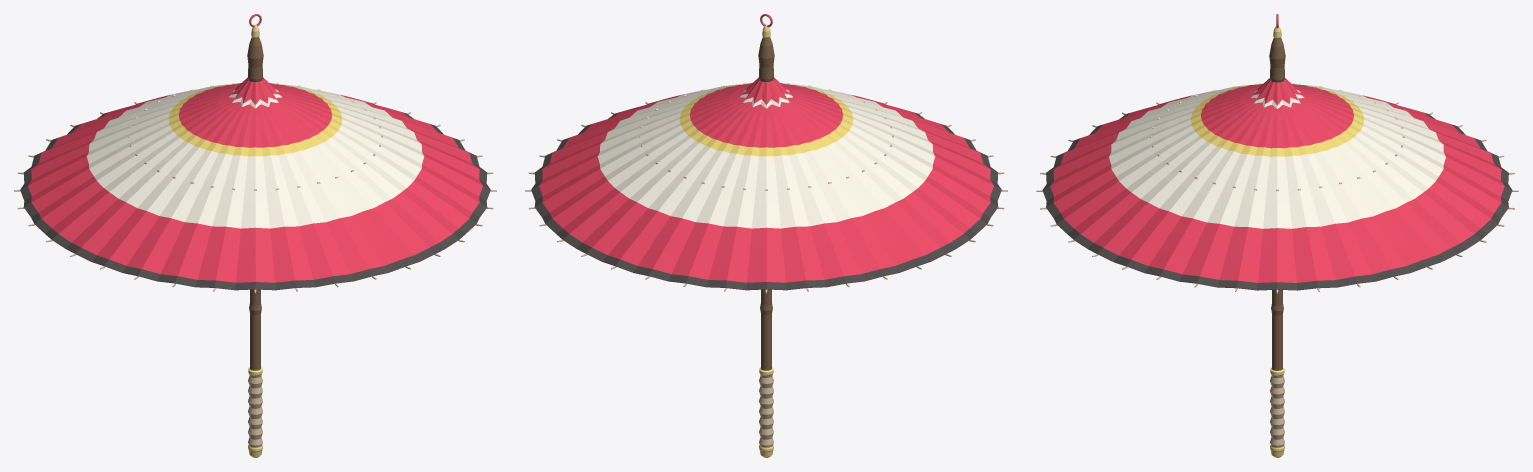
Rendered from craft_wagasa.glb.
The picture shows the model from 3 angles, left to right: view 1: azimuth 30°, elevation 25°; view 2: azimuth 150°, elevation 25°; view 3: azimuth 270°, elevation 25°; orthographic projection.
Visible parts, largest first — view 1: Wagasa_Canopy_OuterCrimson, Wagasa_Canopy_CreamBand, Wagasa_Canopy_InnerCrimson, Wagasa_Canopy_FukurinRim, Wagasa_Canopy_GoldBand, Wagasa_Handle_Rattan, Wagasa_Shaft_Wood, Wagasa_Doubana_Crimson, Wagasa_Finial_Wood; view 2: Wagasa_Canopy_OuterCrimson, Wagasa_Canopy_CreamBand, Wagasa_Canopy_InnerCrimson, Wagasa_Canopy_FukurinRim, Wagasa_Canopy_GoldBand, Wagasa_Handle_Rattan, Wagasa_Shaft_Wood, Wagasa_Doubana_Crimson, Wagasa_Finial_Wood; view 3: Wagasa_Canopy_OuterCrimson, Wagasa_Canopy_CreamBand, Wagasa_Canopy_InnerCrimson, Wagasa_Canopy_FukurinRim, Wagasa_Canopy_GoldBand, Wagasa_Handle_Rattan, Wagasa_Shaft_Wood, Wagasa_Doubana_Crimson, Wagasa_Finial_Wood.
Part boxes in pixels (x1,y1,x2,y2): Wagasa_Canopy_OuterCrimson: (28, 95, 482, 282); Wagasa_Canopy_CreamBand: (86, 83, 424, 228); Wagasa_Canopy_InnerCrimson: (179, 83, 331, 147); Wagasa_Canopy_FukurinRim: (20, 102, 490, 290); Wagasa_Canopy_GoldBand: (168, 83, 342, 156); Wagasa_Handle_Rattan: (248, 373, 262, 447); Wagasa_Shaft_Wood: (249, 289, 261, 370); Wagasa_Doubana_Crimson: (231, 77, 279, 104); Wagasa_Finial_Wood: (247, 37, 263, 81); Wagasa_Canopy_OuterCrimson: (539, 95, 993, 282); Wagasa_Canopy_CreamBand: (597, 83, 935, 228); Wagasa_Canopy_InnerCrimson: (690, 83, 842, 147); Wagasa_Canopy_FukurinRim: (531, 102, 1001, 290); Wagasa_Canopy_GoldBand: (679, 83, 853, 156); Wagasa_Handle_Rattan: (759, 373, 773, 447); Wagasa_Shaft_Wood: (760, 289, 772, 370); Wagasa_Doubana_Crimson: (742, 77, 790, 104); Wagasa_Finial_Wood: (758, 37, 774, 81); Wagasa_Canopy_OuterCrimson: (1050, 95, 1504, 282); Wagasa_Canopy_CreamBand: (1109, 83, 1445, 228); Wagasa_Canopy_InnerCrimson: (1201, 84, 1353, 148); Wagasa_Canopy_FukurinRim: (1042, 103, 1512, 290); Wagasa_Canopy_GoldBand: (1190, 83, 1364, 156); Wagasa_Handle_Rattan: (1270, 374, 1284, 447); Wagasa_Shaft_Wood: (1271, 289, 1283, 370); Wagasa_Doubana_Crimson: (1253, 78, 1301, 105); Wagasa_Finial_Wood: (1269, 38, 1285, 82).
Size of the model in its own units: 1.93 by 1.95 by 1.93.
